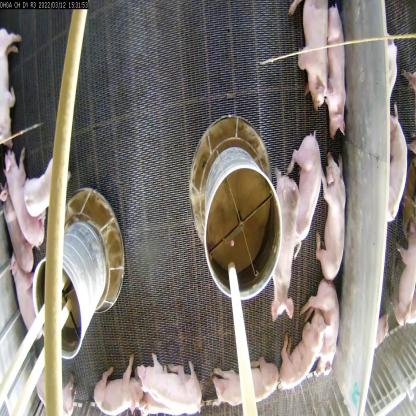Pig: (286, 122, 324, 263), (284, 0, 332, 108), (317, 8, 353, 142), (301, 270, 343, 380), (137, 344, 201, 414), (271, 166, 298, 325), (27, 334, 79, 415), (209, 352, 280, 409), (6, 148, 43, 251), (315, 157, 344, 273), (4, 241, 40, 330), (1, 177, 33, 277), (275, 316, 324, 380), (95, 356, 146, 416), (23, 154, 74, 211), (0, 27, 21, 148)
